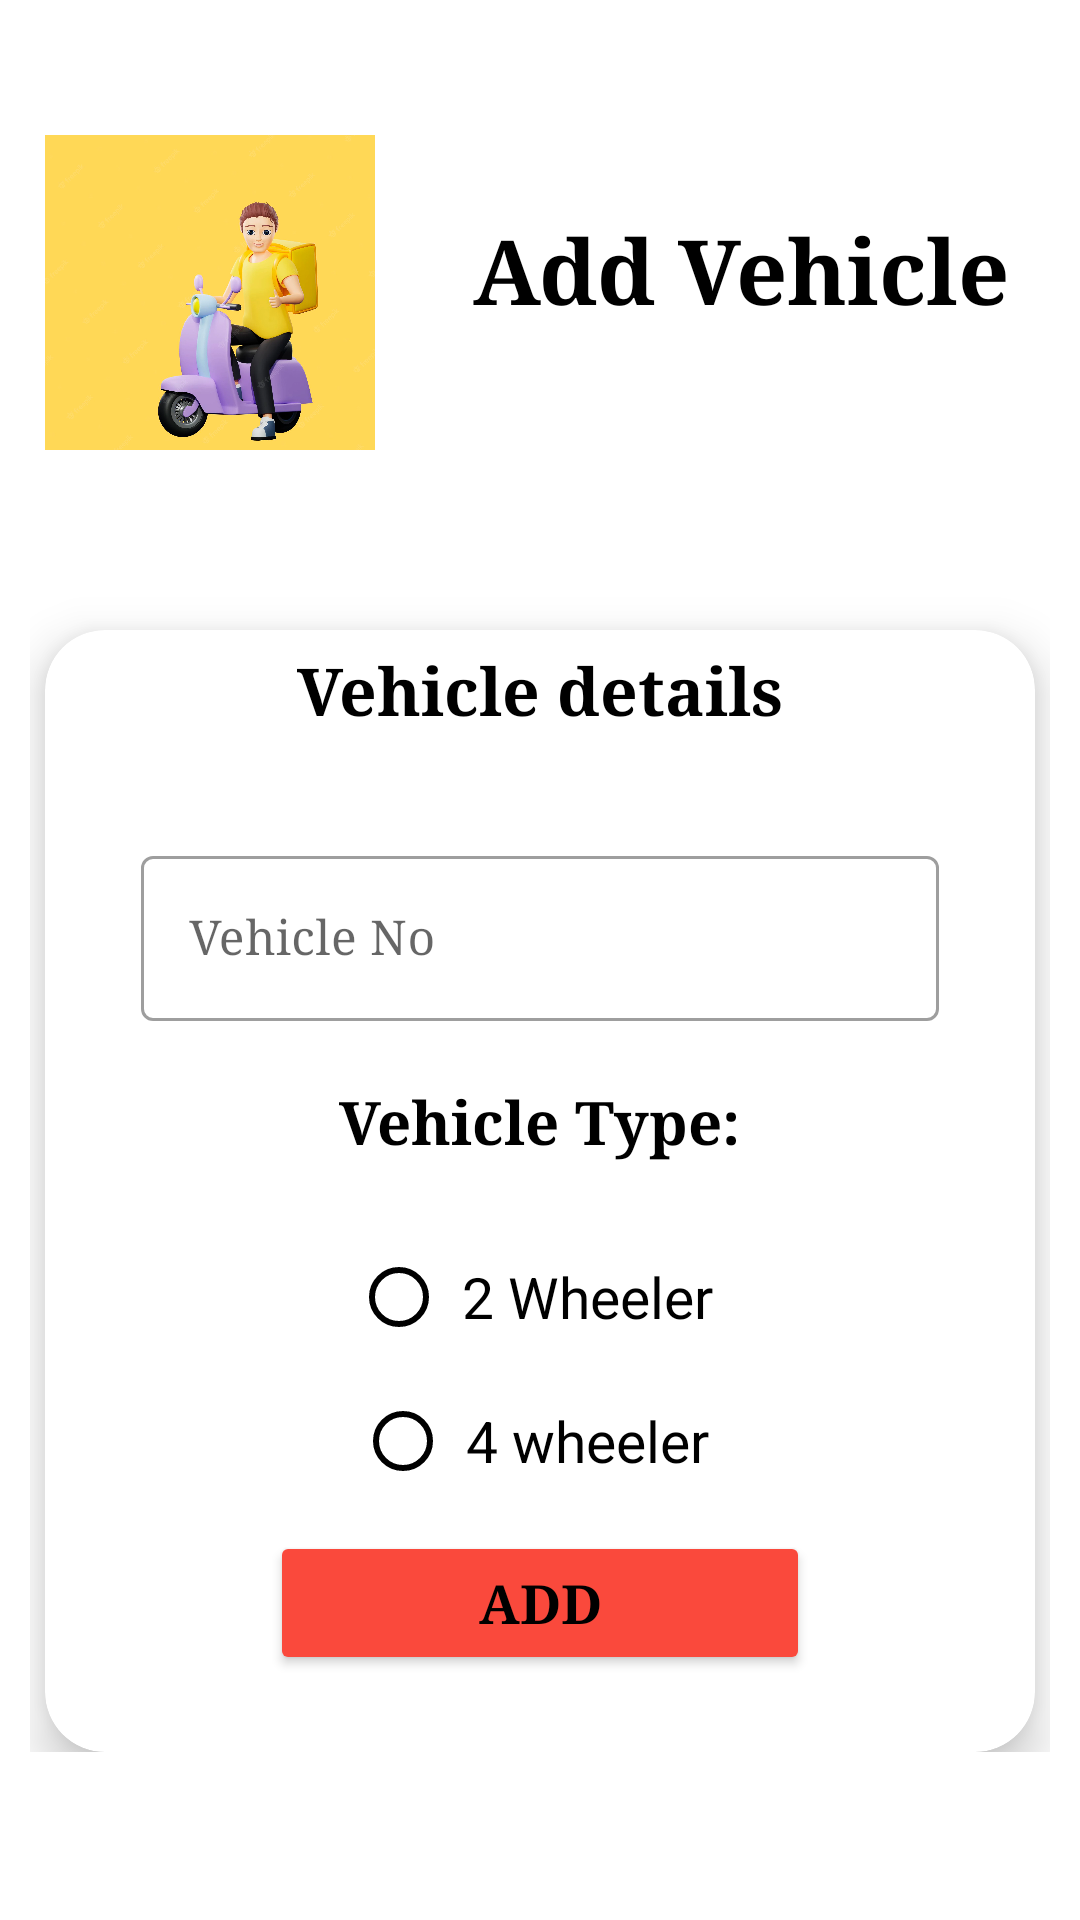

Icons on this 1080*1920 Android screen, each with the point to tap as (x=x, y=y):
bikelogin: (x=210, y=292)
